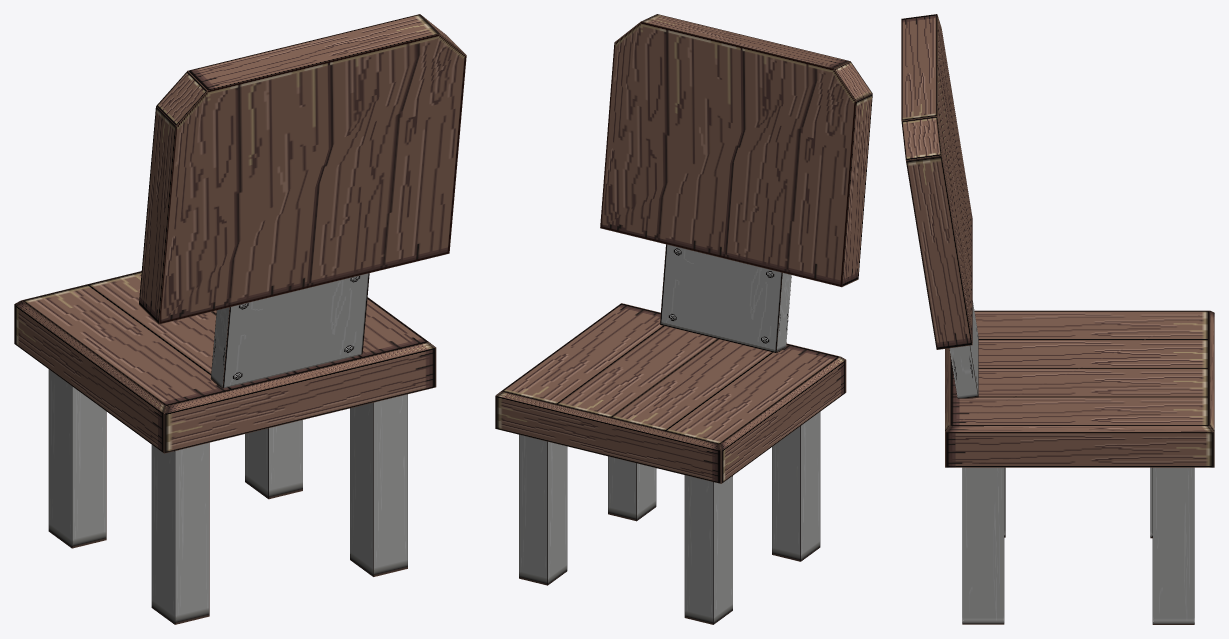
Rendered from Chair.fbx.
The picture shows the model from 3 angles, left to right: view 1: azimuth 30°, elevation 25°; view 2: azimuth 150°, elevation 25°; view 3: azimuth 270°, elevation 25°; orthographic projection. The views are drawn at different scales.
Visible parts, largest first — view 1: Chair; view 2: Chair; view 3: Chair.
Part boxes in pixels (box(x1,y1,x2,y2)): Chair: box(14, 14, 466, 624); Chair: box(495, 14, 872, 624); Chair: box(901, 14, 1214, 624).
Bounding box in the file's own units: 55.32 × 103 × 57.44.
